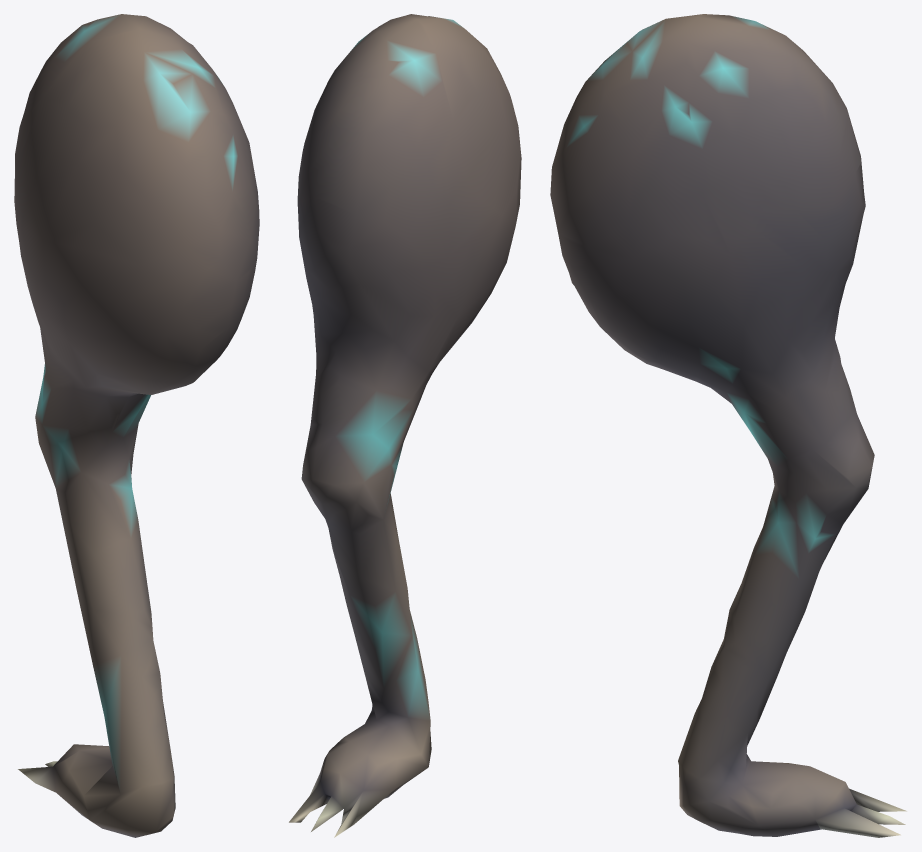
File: hound_leg_br.glb
3 views of the same model, side by side, from view 1: azimuth 30°, elevation 25°; view 2: azimuth 150°, elevation 25°; view 3: azimuth 270°, elevation 25° (orthographic). The views are drawn at different scales.
Parts seen in each view (by area): view 1: geometry_0; view 2: geometry_0; view 3: geometry_0.
Boxes of the visible parts, <box> form: geometry_0: <box>14,14,259,837</box>; geometry_0: <box>289,14,521,837</box>; geometry_0: <box>550,14,906,837</box>.
Bounding box in the file's own units: 0.2262 × 0.9112 × 0.367.
